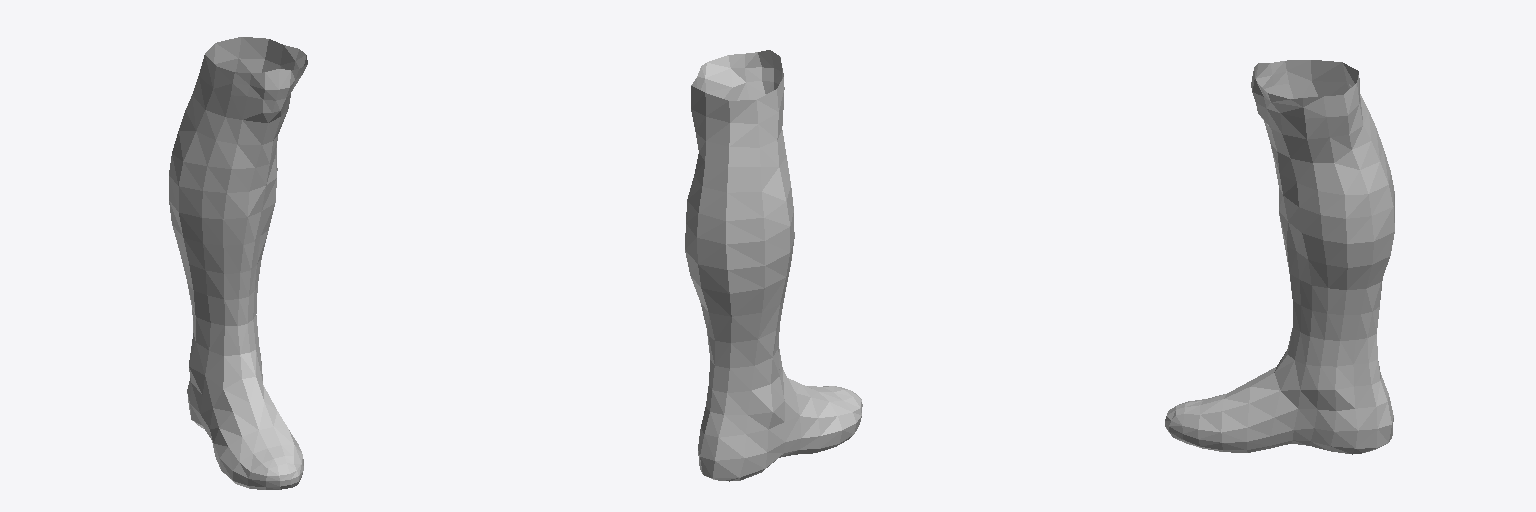
Rendered from LeftFoot.obj.
3 renders of one model, left to right at view 1: azimuth 30°, elevation 25°; view 2: azimuth 150°, elevation 25°; view 3: azimuth 270°, elevation 25°, orthographic.
Parts seen in each view (by area): view 1: Model001_22_legs_0_6_75_75_foot_leg ankle left polySurface1; view 2: Model001_22_legs_0_6_75_75_foot_leg ankle left polySurface1; view 3: Model001_22_legs_0_6_75_75_foot_leg ankle left polySurface1.
Boxes of the visible parts, x1=… form: Model001_22_legs_0_6_75_75_foot_leg ankle left polySurface1: x1=169, y1=37, x2=307, y2=489; Model001_22_legs_0_6_75_75_foot_leg ankle left polySurface1: x1=685, y1=50, x2=862, y2=481; Model001_22_legs_0_6_75_75_foot_leg ankle left polySurface1: x1=1165, y1=60, x2=1394, y2=454.
Size of the model in its own units: 0.1811 by 0.6025 by 0.3235.